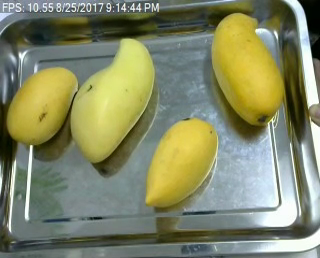Mango: (66, 35, 155, 164), (210, 12, 287, 128), (142, 116, 219, 209), (4, 65, 81, 148)
